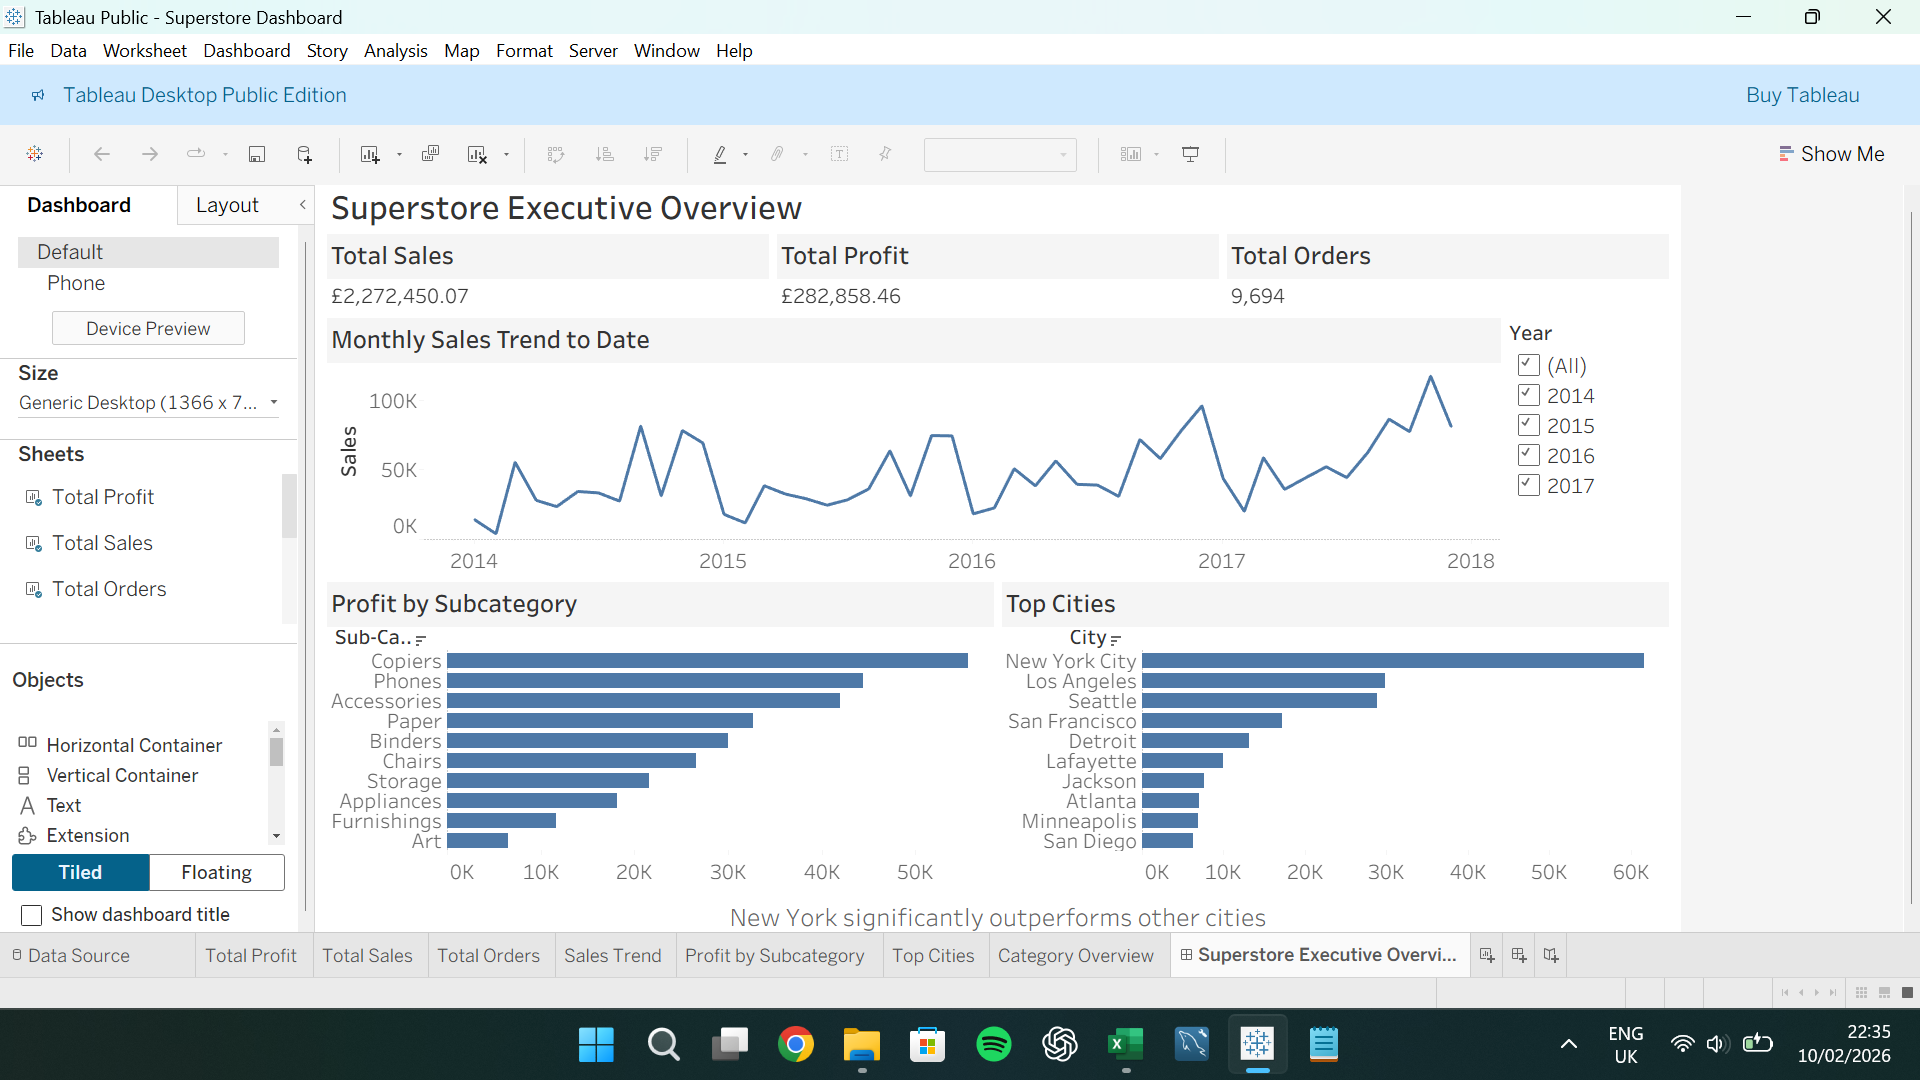

What the dashboard file says about the page in this screenshot:
{"tool":"tableau","page":{"name":"Superstore Executive Overview","canvas":[1366,768],"ordinal":0},"visuals":[{"type":"title","box":[8,8,1350,47]},{"type":"worksheet","title":"Total Sales","mark":"Automatic","box":[8,55,450,84]},{"type":"worksheet","title":"Total Profit","mark":"Automatic","box":[458,55,450,84]},{"type":"worksheet","title":"Total Orders","mark":"Automatic","box":[908,55,450,84]},{"type":"worksheet","title":"Sales Trend","mark":"Automatic","rows":["sales"],"cols":["order_date"],"box":[8,139,1182,264.4]},{"type":"filter","title":"Sales Trend","param":"[federated.1dh6iev1au44sc14lnibp1ckr4q3].[none:year:ok]","box":[1190,139,168,264.4]},{"type":"worksheet","title":"Profit by Subcategory","mark":"Automatic","rows":["sub-category"],"cols":["profit"],"box":[8,403.4,675,319.6]},{"type":"worksheet","title":"Top Cities","mark":"Automatic","rows":["city"],"cols":["profit"],"box":[683,403.4,675,319.6]},{"type":"text","box":[8,723,1350,37]}]}

Visuals, with their boxes on the page's 1366x768 design canvas (x1, y1, x2, y2). These are canvas units, not pixel positions in the 1920x1080 screenshot, which may show the page scaled, cropped or inside an application window:
title: pyautogui.locateOnScreen(8, 8, 1358, 55)
"Total Sales" worksheet: pyautogui.locateOnScreen(8, 55, 458, 139)
"Total Profit" worksheet: pyautogui.locateOnScreen(458, 55, 908, 139)
"Total Orders" worksheet: pyautogui.locateOnScreen(908, 55, 1358, 139)
"Sales Trend" worksheet: pyautogui.locateOnScreen(8, 139, 1190, 403)
"Sales Trend" filter: pyautogui.locateOnScreen(1190, 139, 1358, 403)
"Profit by Subcategory" worksheet: pyautogui.locateOnScreen(8, 403, 683, 723)
"Top Cities" worksheet: pyautogui.locateOnScreen(683, 403, 1358, 723)
text: pyautogui.locateOnScreen(8, 723, 1358, 760)
